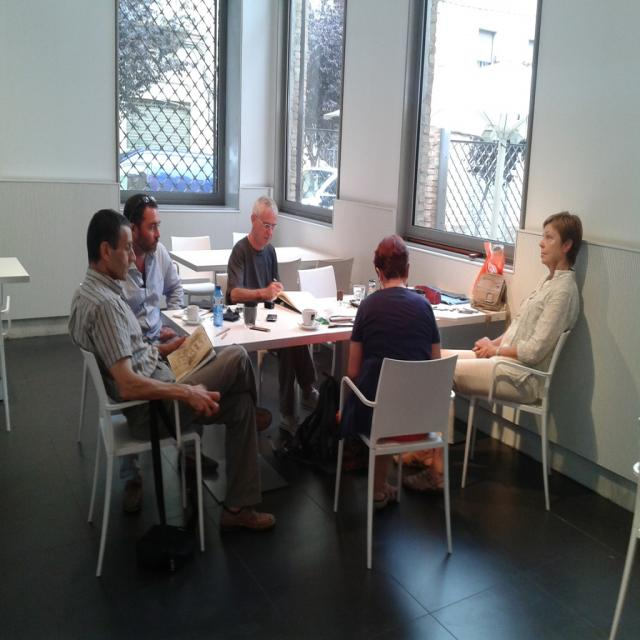chair: (76, 348, 204, 578), (333, 355, 457, 569), (460, 324, 576, 511)
desk: (164, 300, 348, 505)
person: (70, 207, 278, 535), (337, 233, 442, 484), (447, 210, 583, 400), (123, 194, 186, 312), (227, 197, 282, 304)
